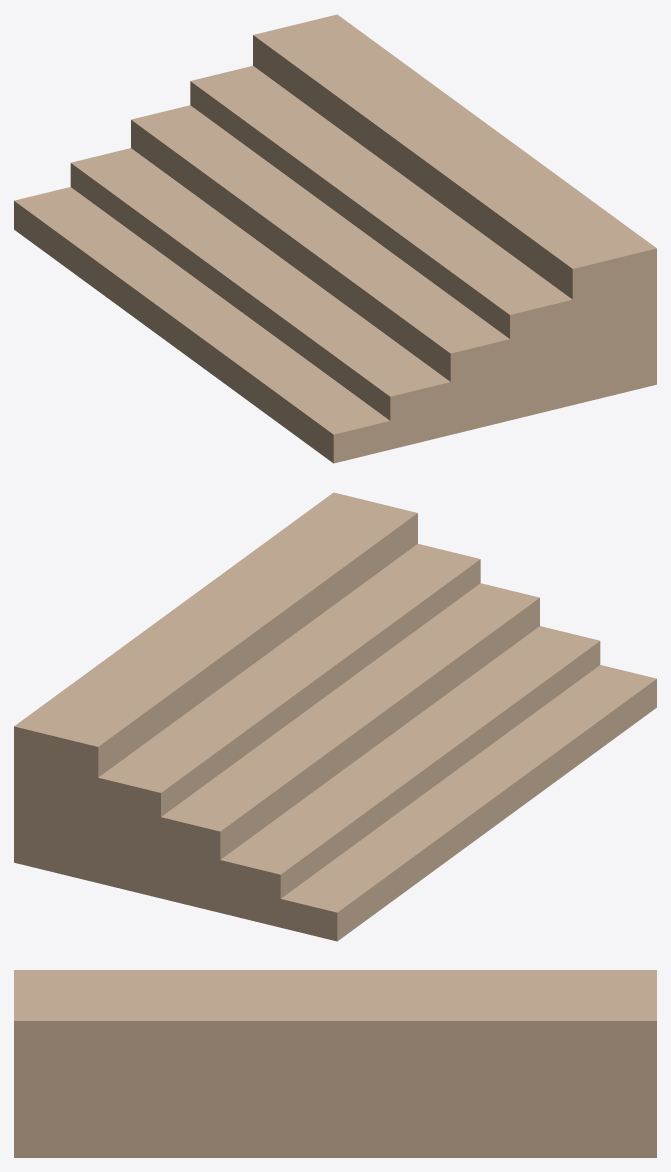
Rendered from BC_DoorStair_A.fbx.
The picture shows the model from 3 angles, top to bottom: view 1: azimuth 30°, elevation 25°; view 2: azimuth 150°, elevation 25°; view 3: azimuth 270°, elevation 25°; orthographic projection.
Visible parts, largest first — view 1: BC_DoorStair_A; view 2: BC_DoorStair_A; view 3: BC_DoorStair_A.
Part boxes in pixels (box(x1,y1,x2,y2)): BC_DoorStair_A: box(14, 14, 656, 463); BC_DoorStair_A: box(14, 492, 656, 941); BC_DoorStair_A: box(14, 970, 656, 1157).
Size of the model in its own units: 258 by 104 by 442.
